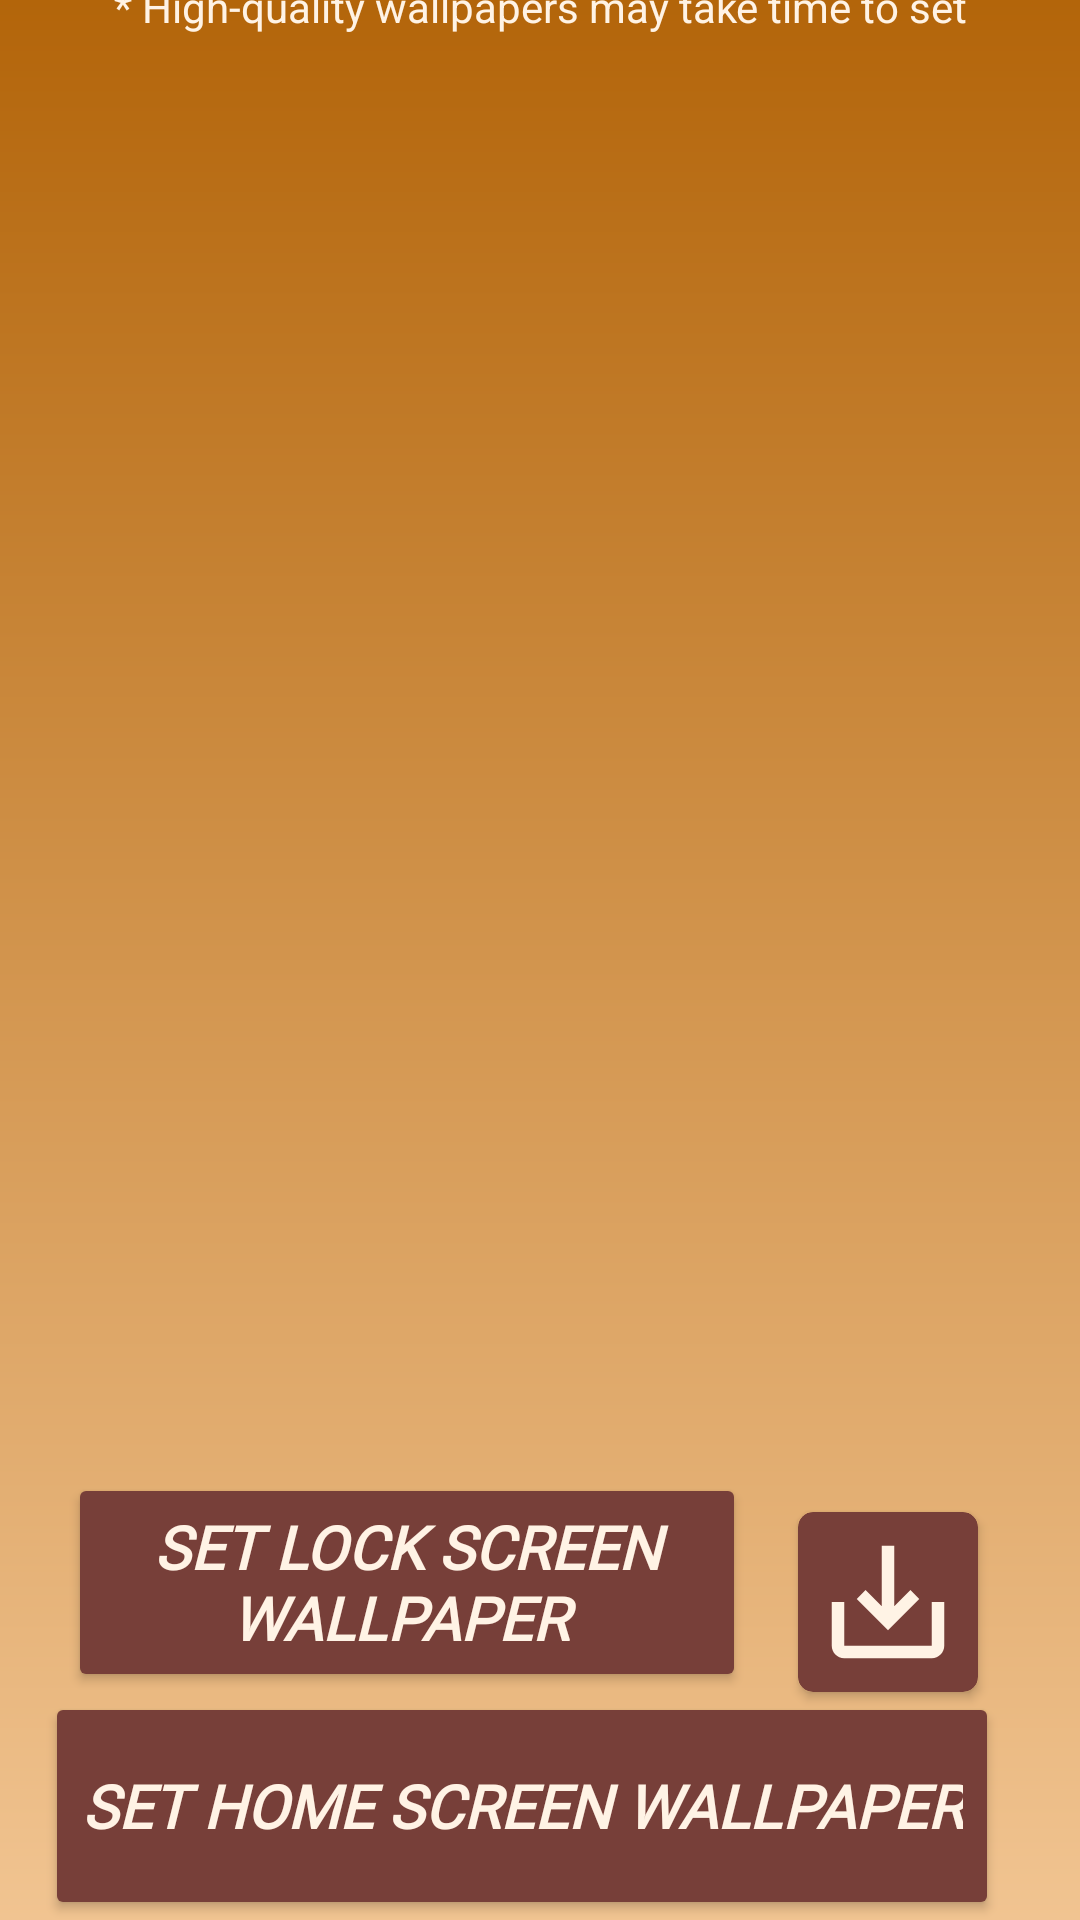

Where to tap for icons on this 1080px x 1920px app screen, as point (x, y):
save: point (888, 1602)
